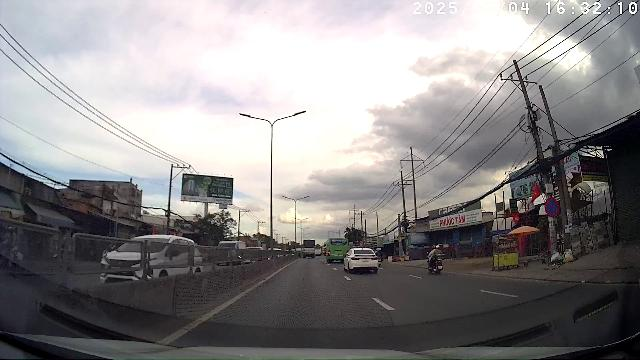130-cam-dung-va-do-xe: (544, 197, 560, 217)
